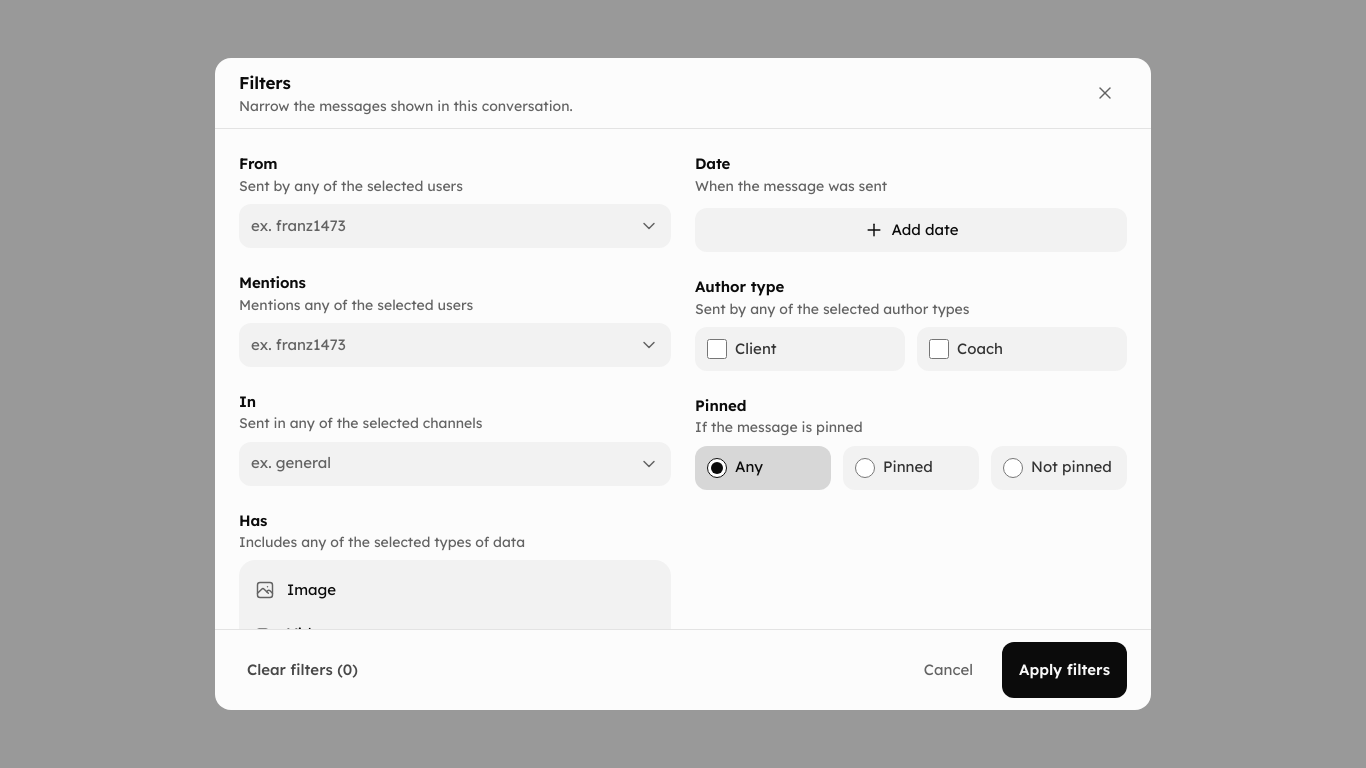
it: FiltersDialog › adds and individually removes multiple date criteria
Click the button "Add date".
click(911, 230)  # box left=695, top=208, right=1127, bottom=252
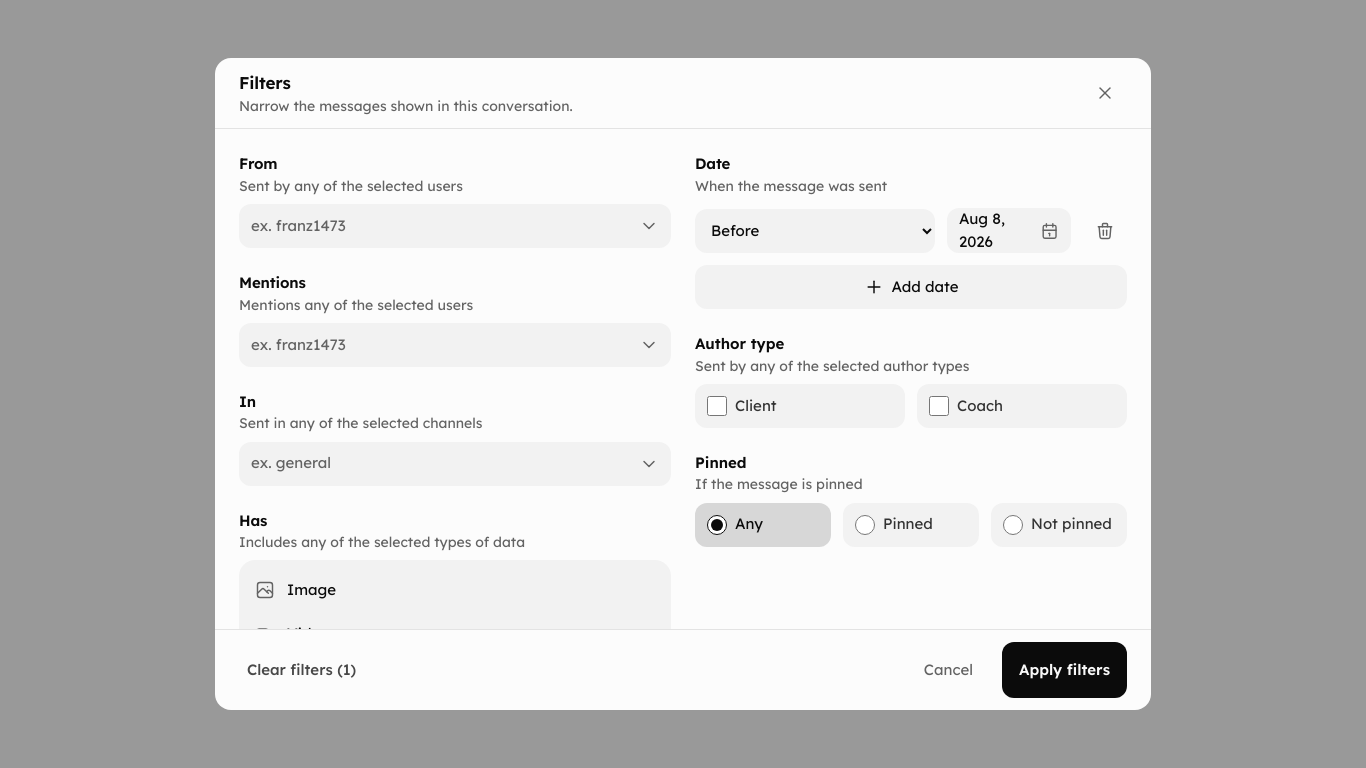
Click the button "Add date".
click(911, 287)  # box left=695, top=265, right=1127, bottom=309
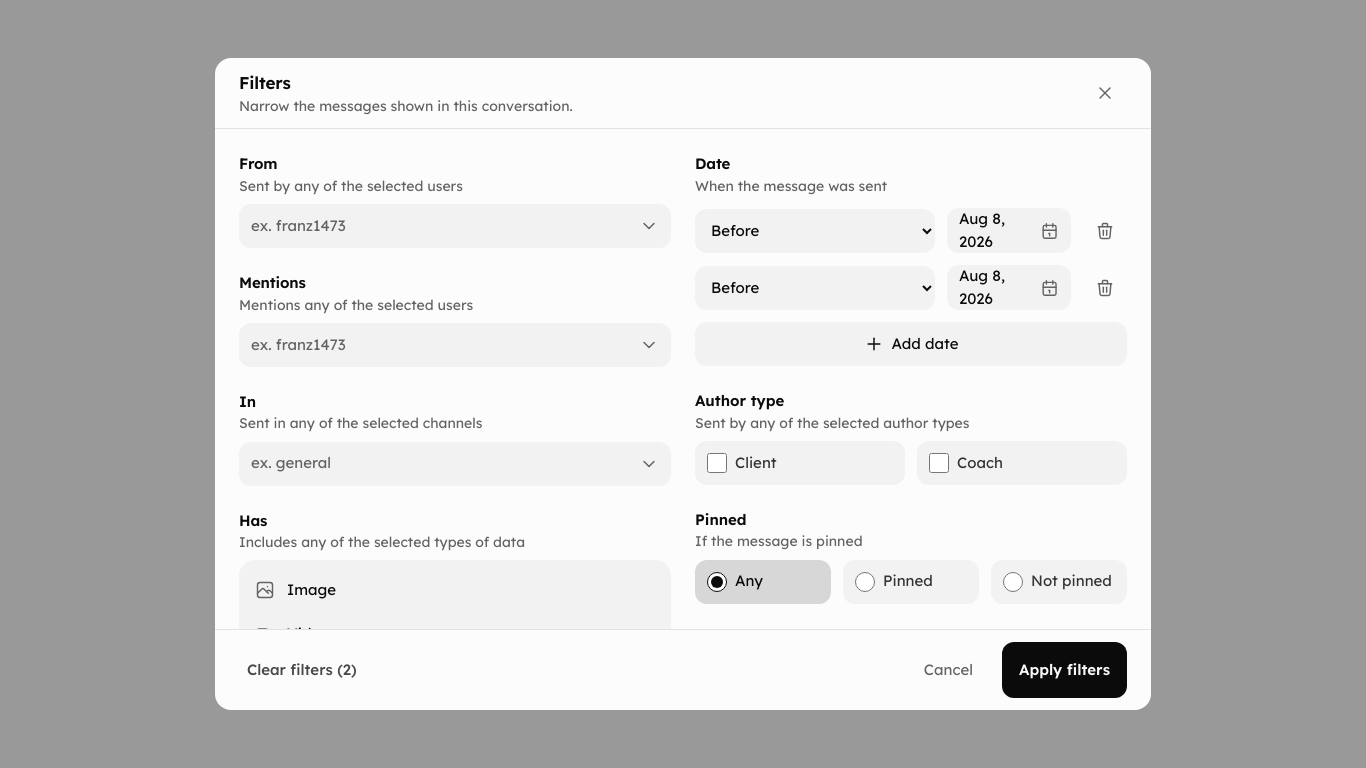
Result: the number of buttons named "Remove date" is 2
Click the button named "Remove date 1".
click(1105, 230)  # box left=1083, top=208, right=1127, bottom=252
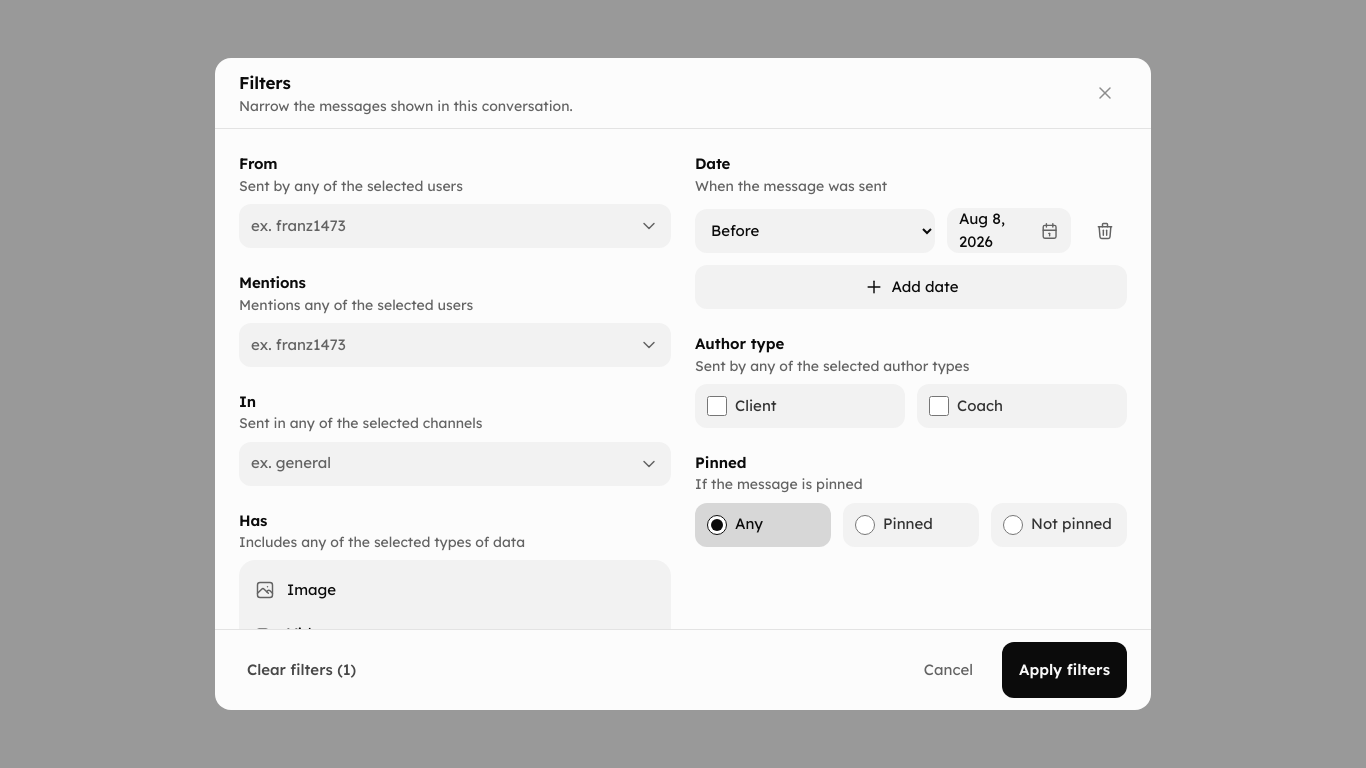
Result: the number of buttons named "Remove date" is 1 at left=1083, top=208, right=1127, bottom=252
